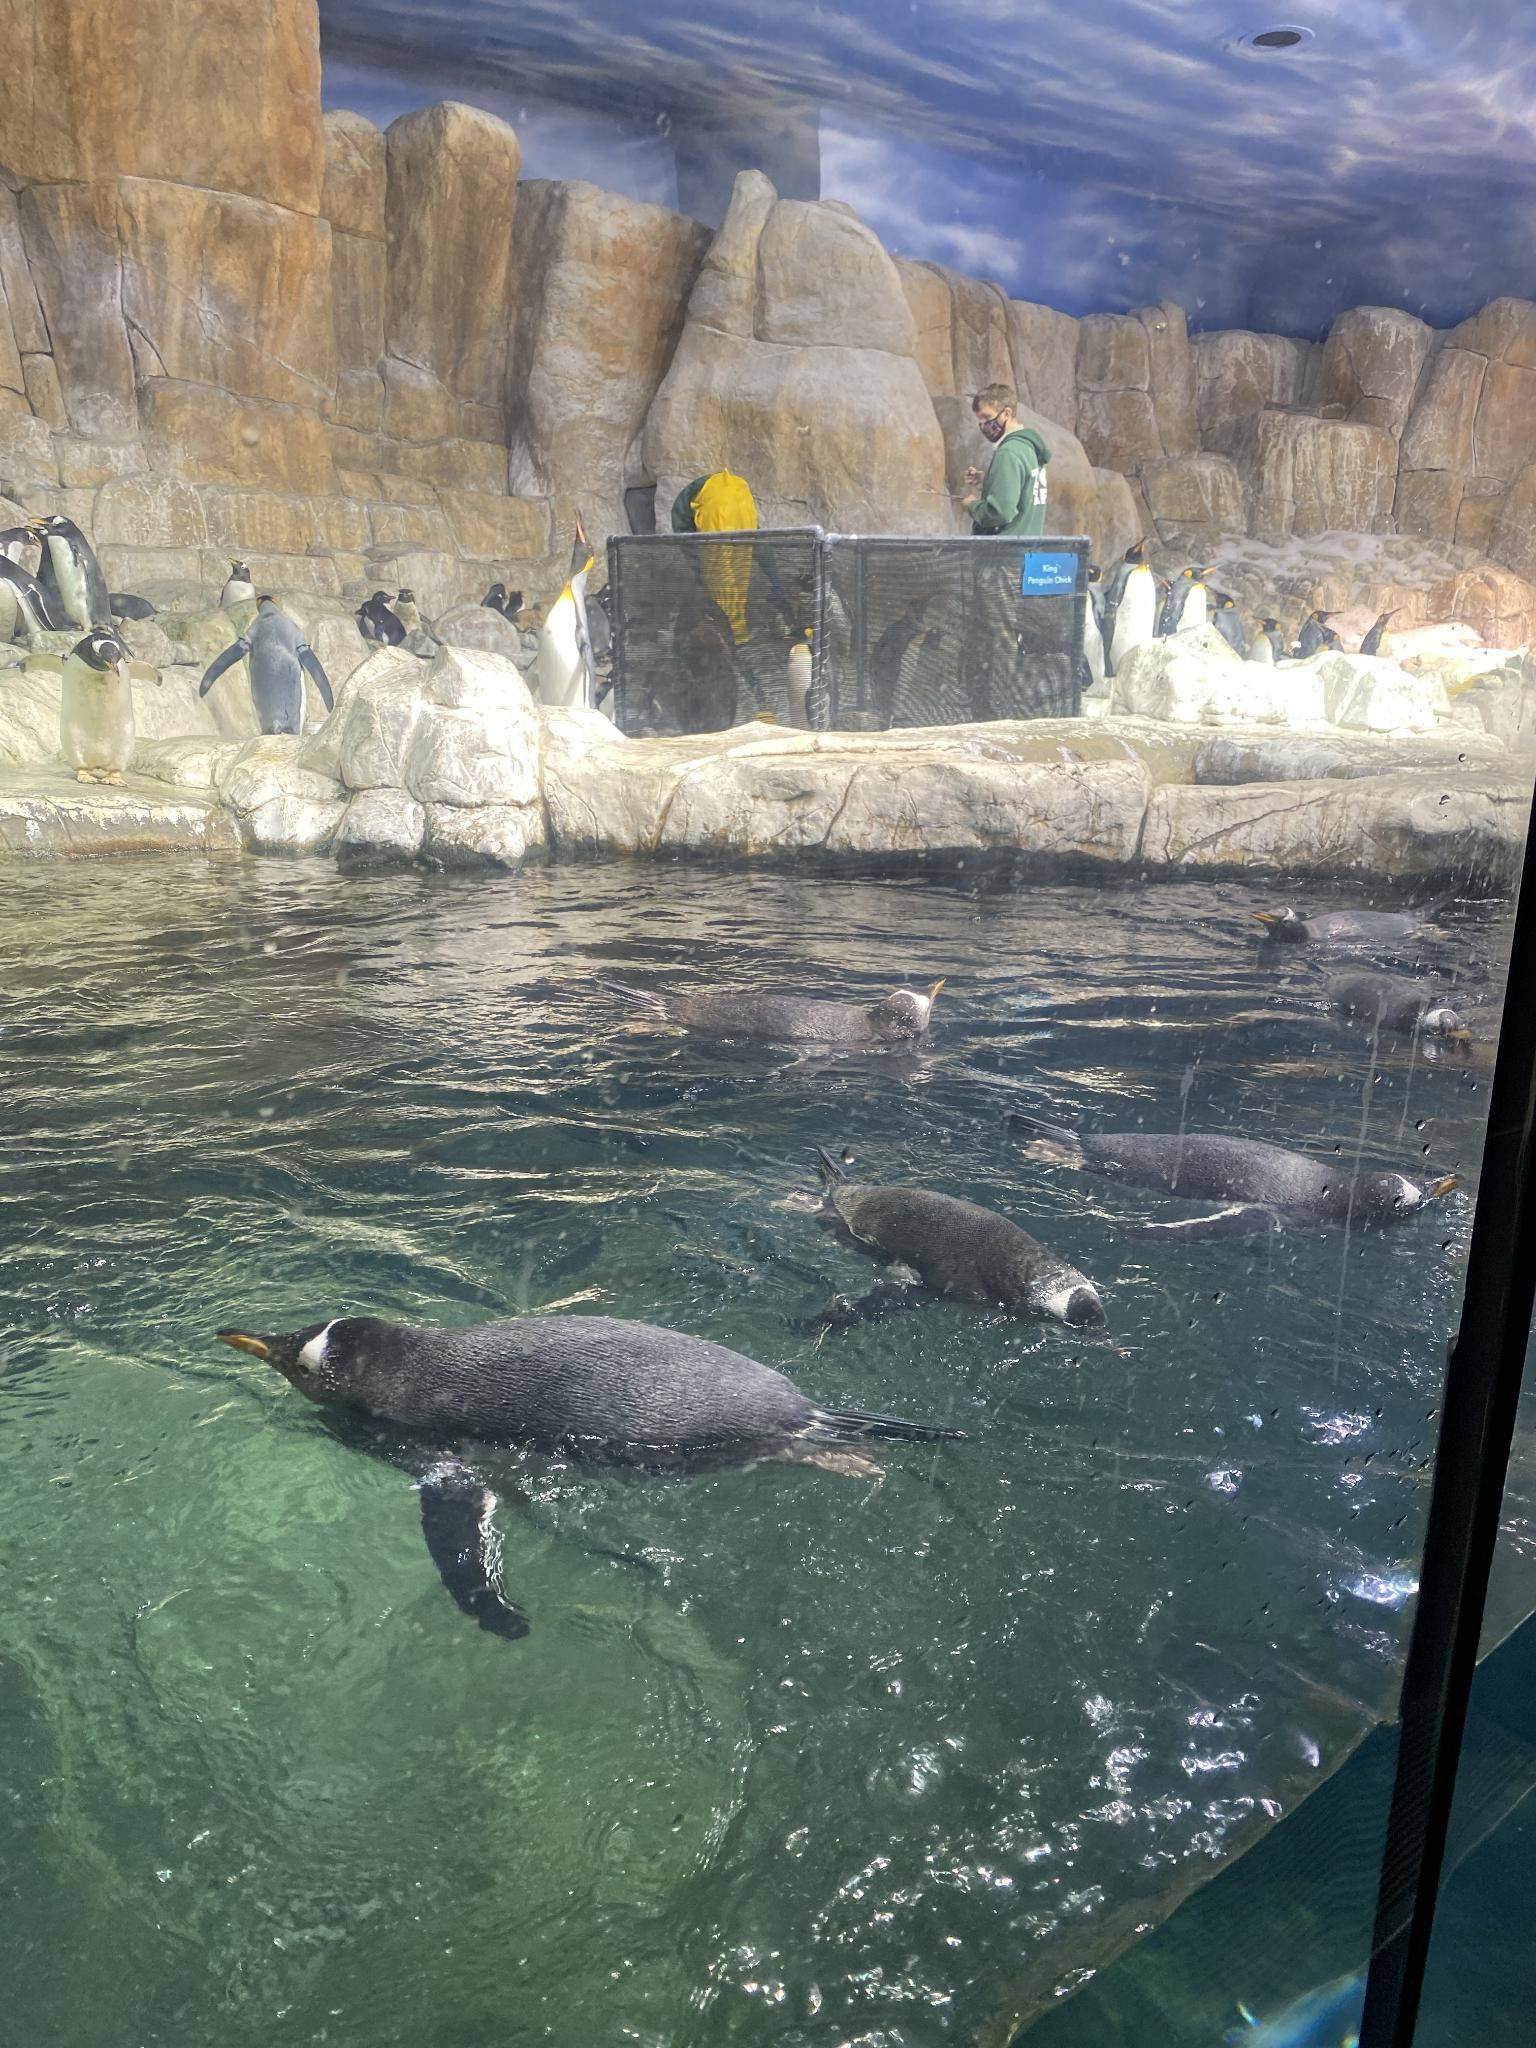penguin: (211, 1308, 970, 1621), (1008, 1100, 1457, 1264), (800, 1155, 1123, 1366), (657, 961, 957, 1072), (232, 592, 331, 743), (1257, 906, 1467, 972), (1338, 980, 1473, 1071), (549, 514, 607, 719), (881, 581, 950, 719), (776, 598, 845, 732), (40, 508, 110, 639), (1100, 531, 1165, 664), (350, 589, 421, 663), (0, 564, 42, 653), (218, 552, 263, 627), (1170, 556, 1207, 645), (3, 506, 47, 581), (1254, 613, 1297, 672), (1212, 581, 1244, 651), (1297, 606, 1334, 661), (1363, 608, 1399, 663)
